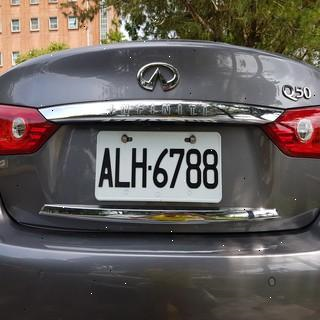license: (97, 138, 226, 197)
